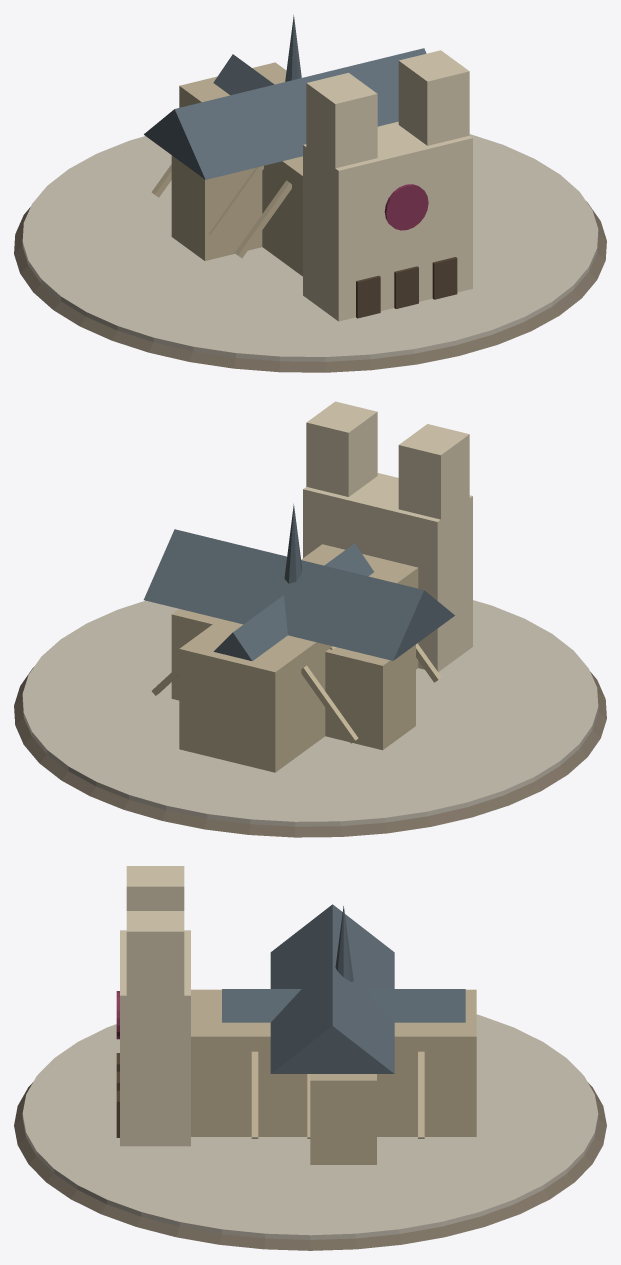
The model's file is notre-dame.glb.
3 views of the same model, one above another, from view 1: azimuth 30°, elevation 25°; view 2: azimuth 150°, elevation 25°; view 3: azimuth 270°, elevation 25° (orthographic).
Parts seen in each view (by area): view 1: notre-dame; view 2: notre-dame; view 3: notre-dame.
Boxes of the visible parts, <box> form: notre-dame: <box>14,15,606,372</box>; notre-dame: <box>14,401,606,837</box>; notre-dame: <box>14,866,606,1250</box>.
Bounding box in the file's own units: 2.37 × 1 × 2.37.
